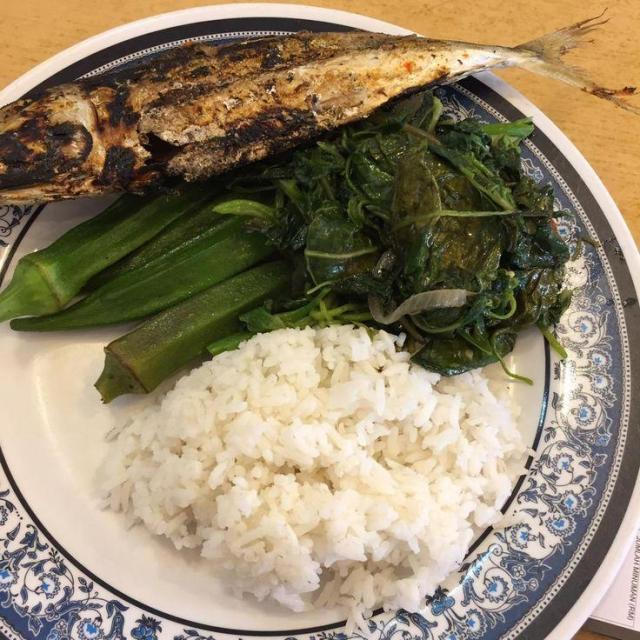Fish: (0, 13, 639, 204)
Plate: (381, 73, 639, 639)
Rice: (100, 320, 530, 639)
Vegetables: (2, 89, 574, 408)
